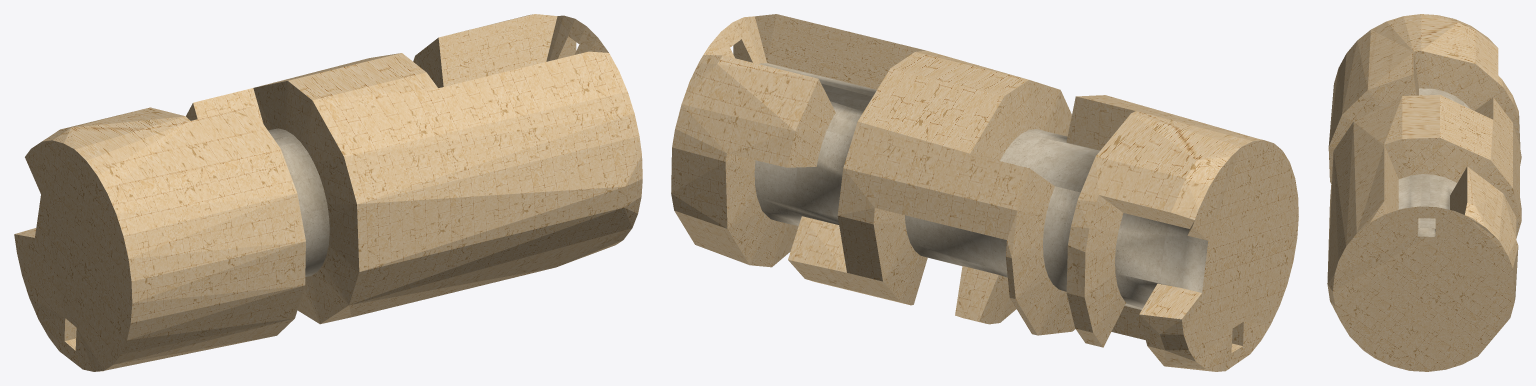
The model's file is spinningroom.fbx.
3 renders of one model, left to right at view 1: azimuth 30°, elevation 25°; view 2: azimuth 150°, elevation 25°; view 3: azimuth 270°, elevation 25°, orthographic. The views are drawn at different scales.
Parts seen in each view (by area): view 1: Cylinder.001; view 2: Cylinder.001; view 3: Cylinder.001.
Part boxes in pixels (x1,y1,x2,y2): Cylinder.001: (14, 14, 642, 371); Cylinder.001: (671, 14, 1298, 371); Cylinder.001: (1327, 14, 1521, 371).
Bounding box in the file's own units: 23784 × 10154 × 10154.
